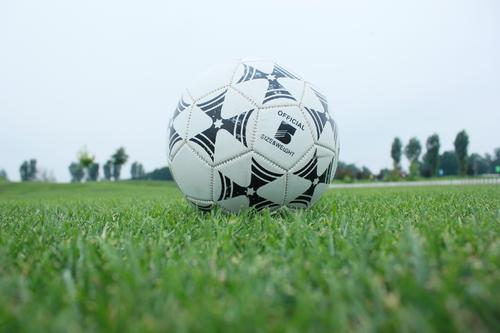football: (168, 59, 342, 224)
